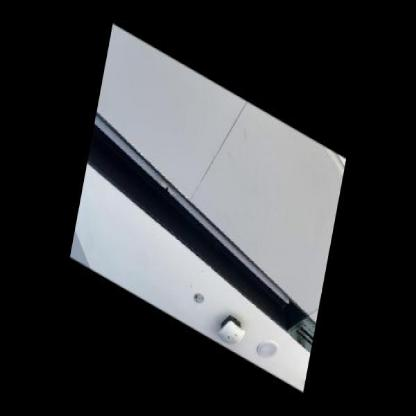light_off: (81, 98, 309, 322)
